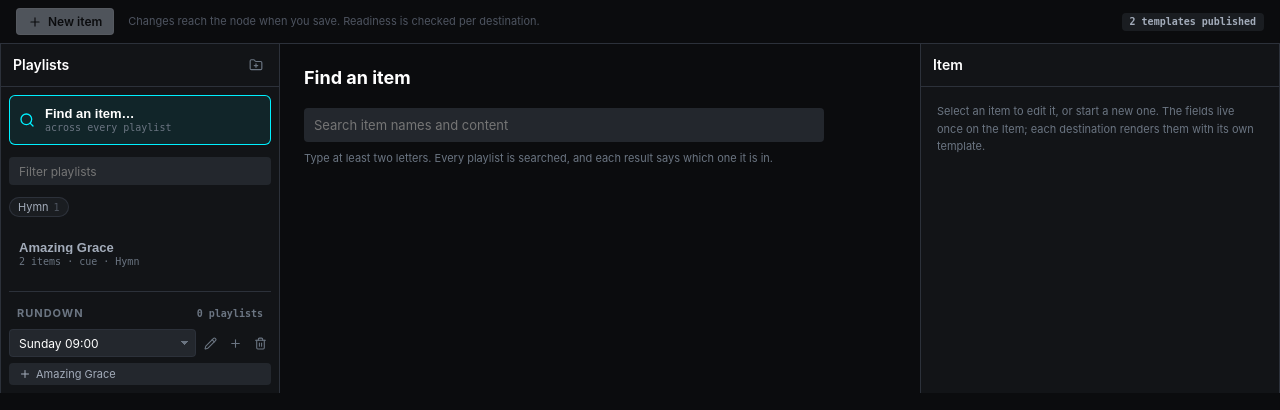
Test: a new rundown is made, selected, and opened for naming in one go
The image size is (1280, 410).
Check: the dropdown named "Rundown" is shown, box [9,329,196,357]
Click the button named "New rundown": (236, 343) [225,332,246,354]
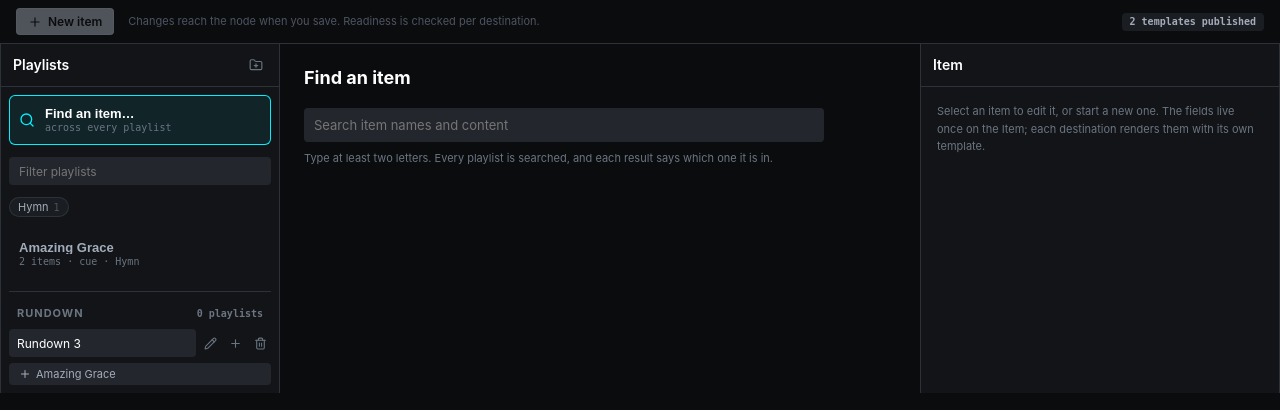
Check: the field named "Rundown name" is shown, box [9,329,196,357]
